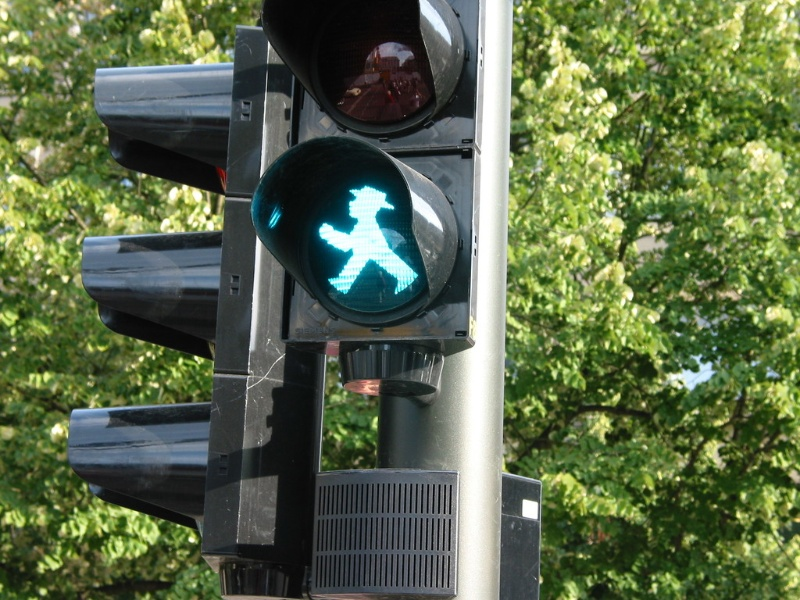pedestrian_crossing_green: (250, 168, 459, 302)
